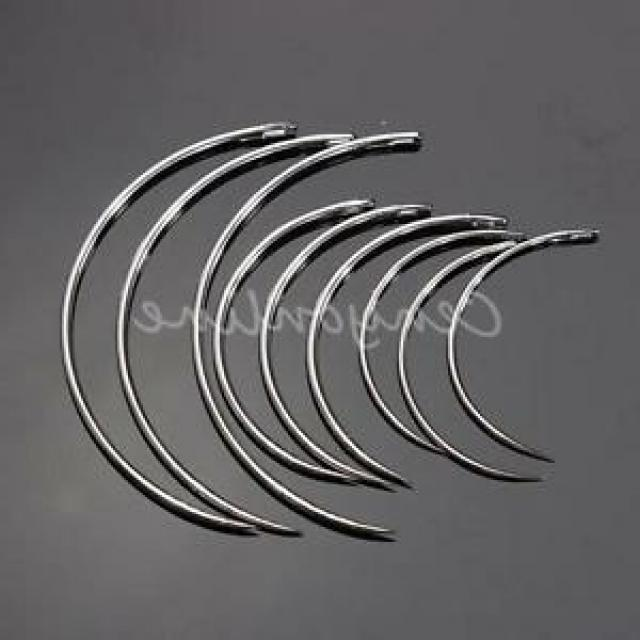Needle: (110, 128, 358, 542), (58, 120, 303, 538), (188, 128, 426, 542), (299, 211, 510, 493), (252, 198, 436, 494), (209, 192, 376, 484), (354, 226, 525, 459), (442, 223, 602, 470), (394, 236, 550, 486)
